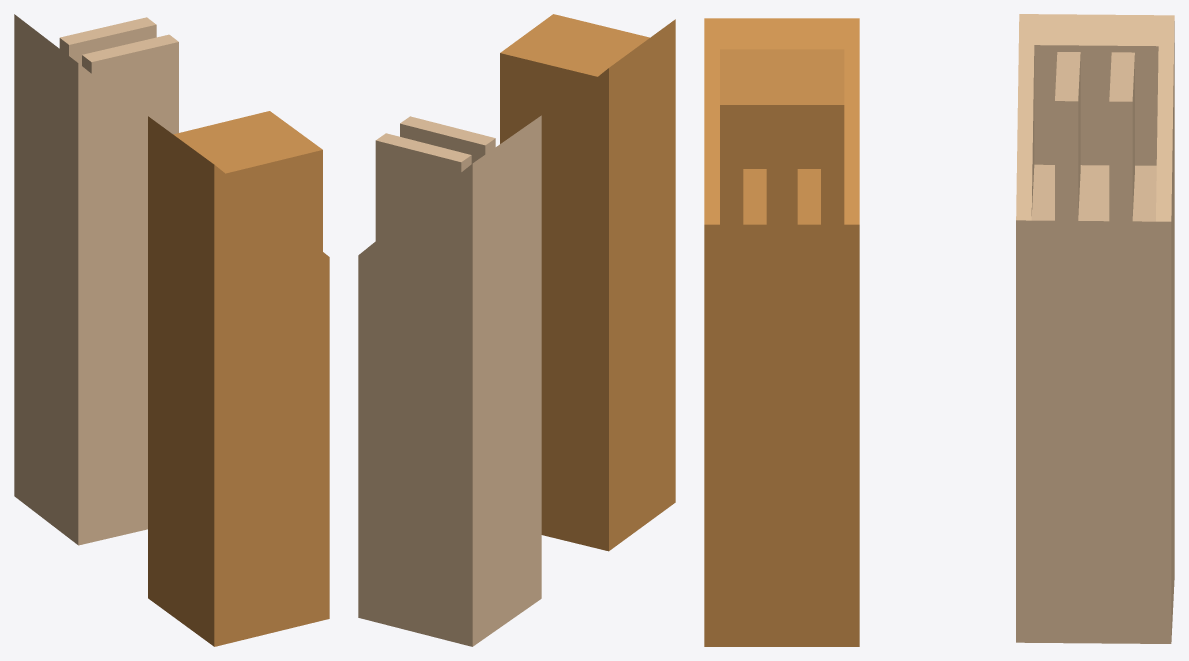
3 renders of one model, left to right at view 1: azimuth 30°, elevation 25°; view 2: azimuth 150°, elevation 25°; view 3: azimuth 270°, elevation 25°, orthographic. The views are drawn at different scales.
Bounding box in the file's own units: 0.2041 × 0.8051 × 0.6054.
